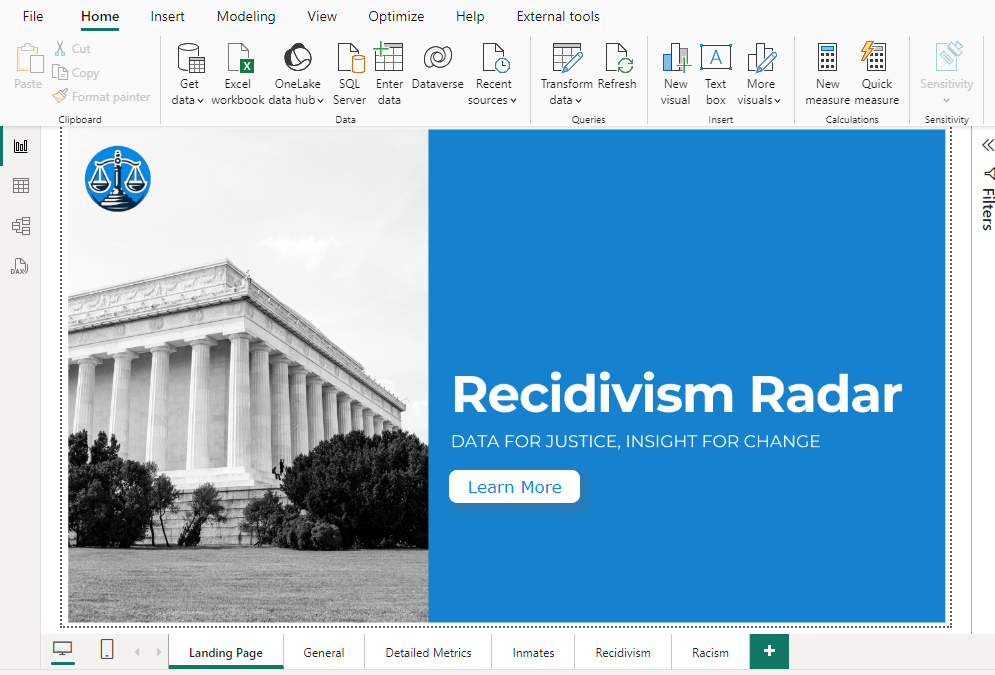

Layout of this report page (visuals, bound fields, positions):
{"tool":"powerbi","page":{"name":"Landing Page","canvas":[1280,720],"ordinal":0},"visuals":[{"type":"image","box":[0,0,1280.2,720],"z":0},{"type":"shape","box":[557.3,495.4,188.6,47.5],"z":1000}]}

Visuals, with their boxes on the page's 1280x720 design canvas (x1, y1, x2, y2). These are canvas units, not pixel positions in the 995x675 screenshot, which may show the page scaled, cropped or inside an application window:
image: 0,0,1280,720
shape: 557,495,746,543
